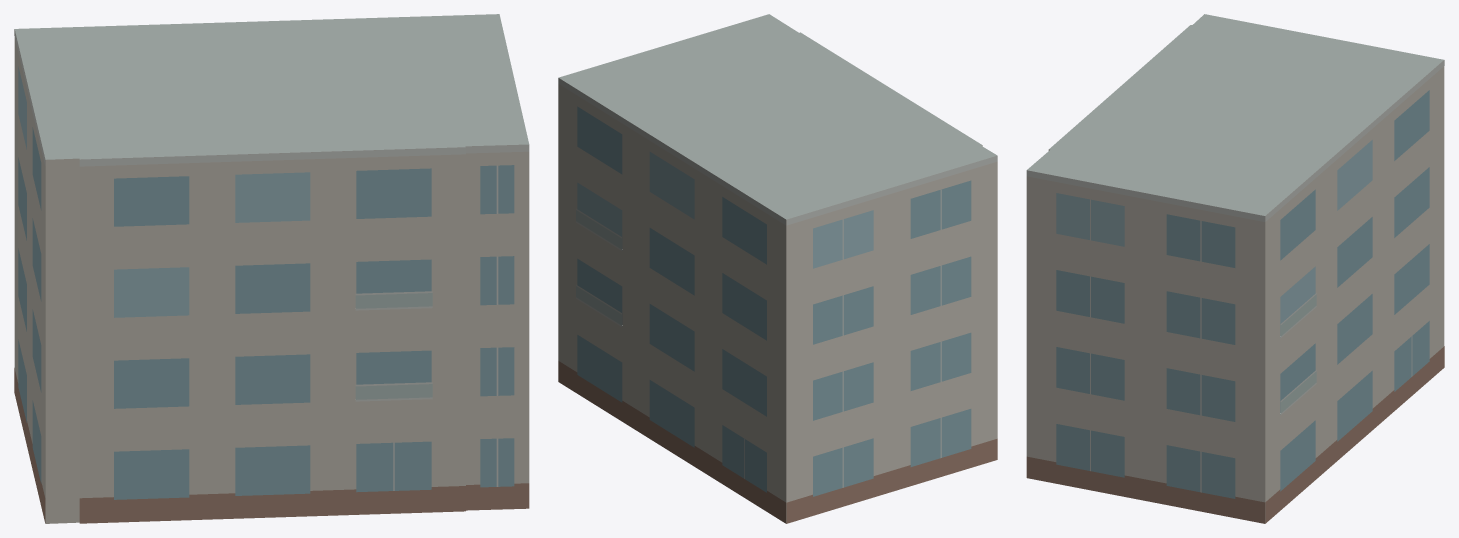
File: survey-upis-32804637.glb
3 views of the same model, side by side, from view 1: azimuth 30°, elevation 25°; view 2: azimuth 150°, elevation 25°; view 3: azimuth 270°, elevation 25° (orthographic). The views are drawn at different scales.
Visible parts, largest first — view 1: survey-upis-32804637.tmp; view 2: survey-upis-32804637.tmp; view 3: survey-upis-32804637.tmp.
Part boxes in pixels (x1=…): survey-upis-32804637.tmp: x1=14, y1=14, x2=529, y2=523; survey-upis-32804637.tmp: x1=558, y1=14, x2=997, y2=523; survey-upis-32804637.tmp: x1=1026, y1=14, x2=1444, y2=523.
Size of the model in its own units: 17.47 by 12.4 by 15.26.
